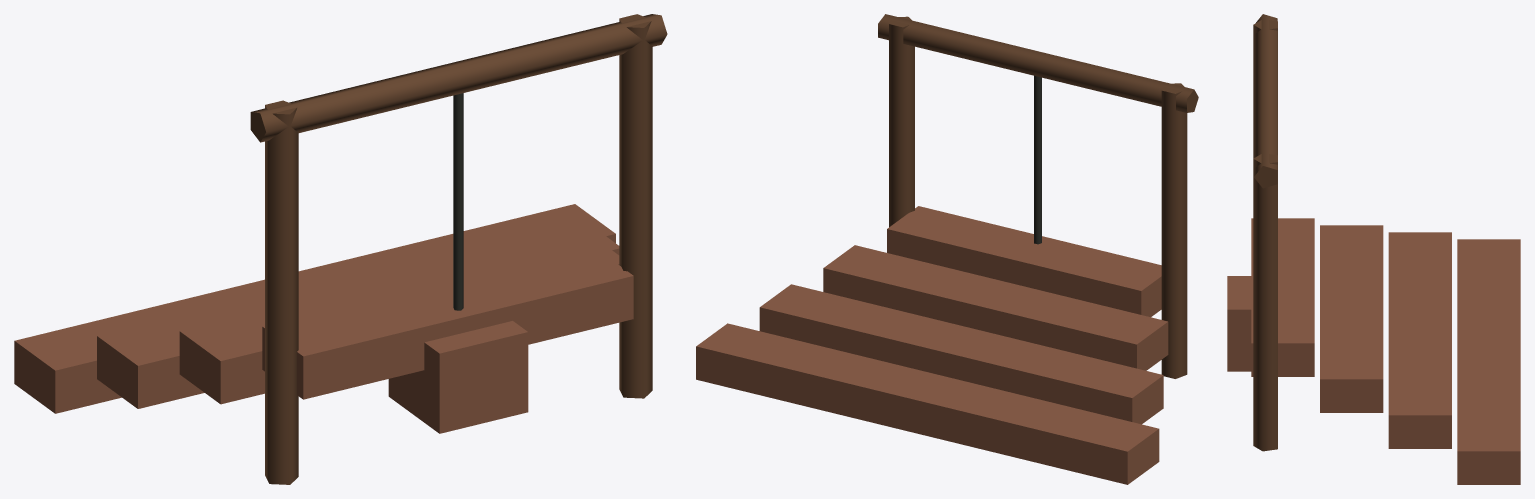
Rendered from custom-imp-claypit.glb.
The picture shows the model from 3 angles, left to right: view 1: azimuth 30°, elevation 25°; view 2: azimuth 150°, elevation 25°; view 3: azimuth 270°, elevation 25°; orthographic projection. The views are drawn at different scales.
Parts seen in each view (by area): view 1: custom-imp-claypit; view 2: custom-imp-claypit; view 3: custom-imp-claypit.
Part boxes in pixels (x1,y1,x2,y2): custom-imp-claypit: (14,14,667,484); custom-imp-claypit: (696,14,1198,484); custom-imp-claypit: (1227,14,1520,484).
Bounding box in the file's own units: 1 × 0.6356 × 0.5842.
